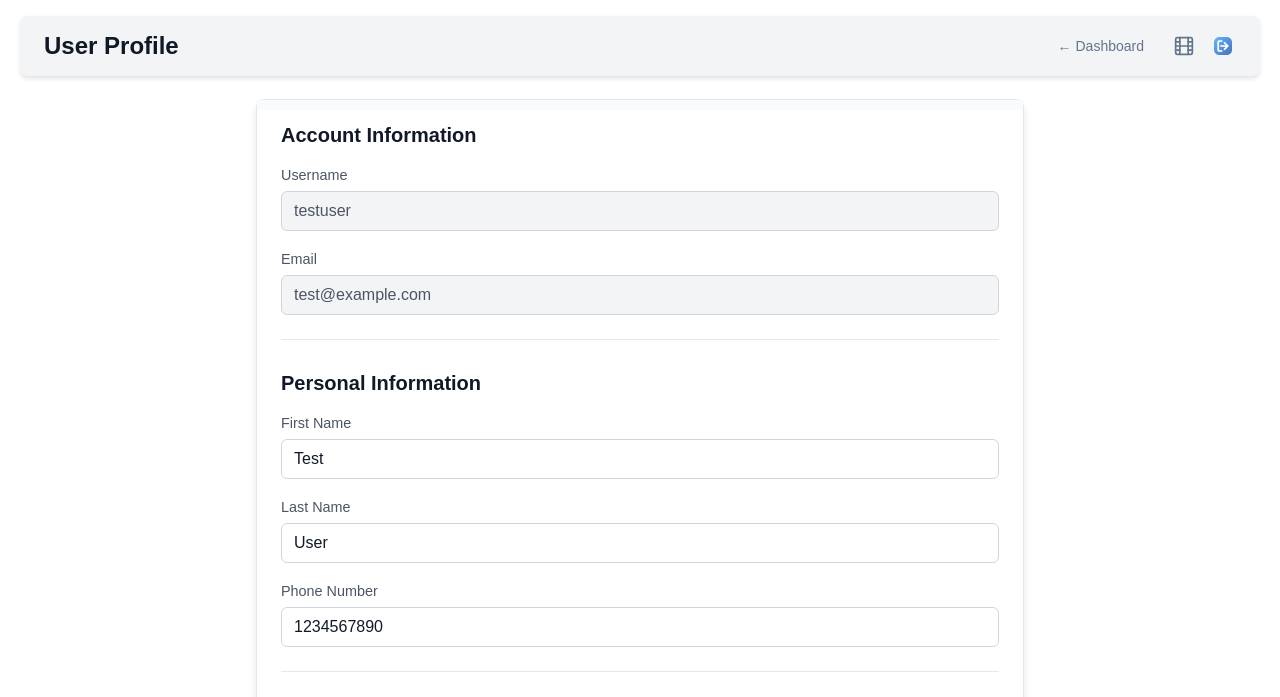
Test: Profile Component › handles profile update successfully
Update first name
Replace the text in the field with placeholder "Enter your first name" below "First Name" with "Updated": point(640, 459) 281,439 -> 999,479
(page scrolled)
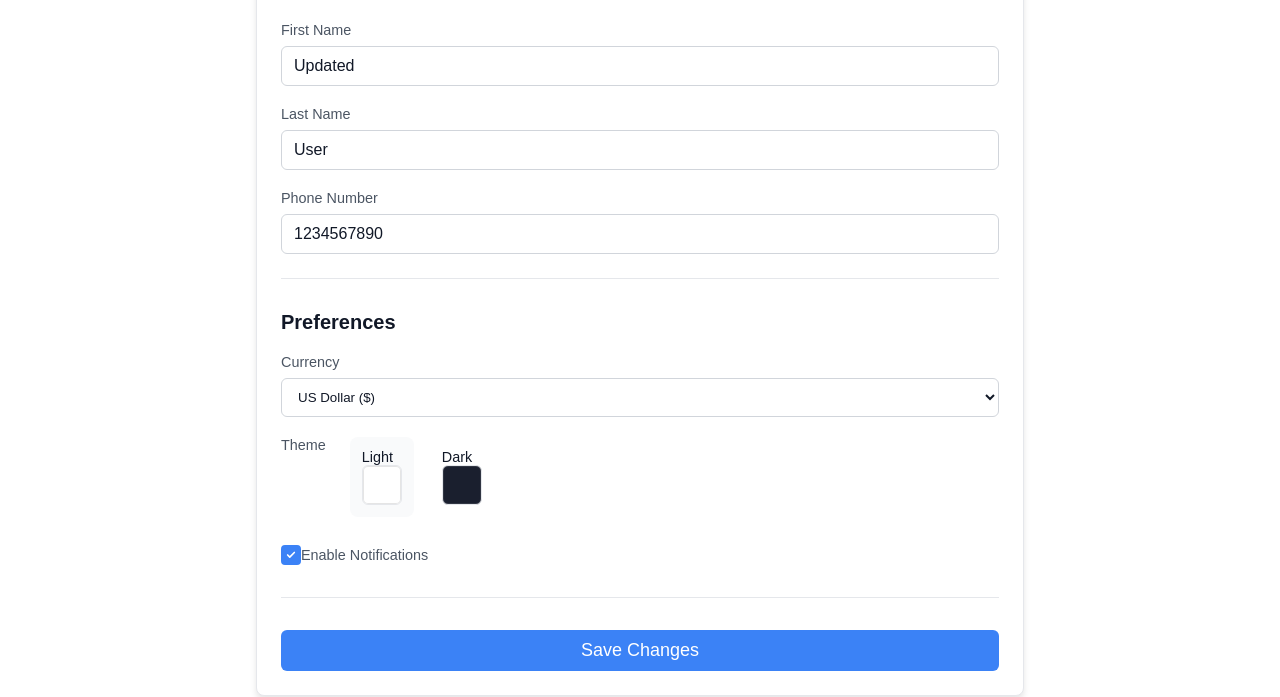
Submit form
Click the button "Save Changes": point(640, 650) 281,630 -> 999,671
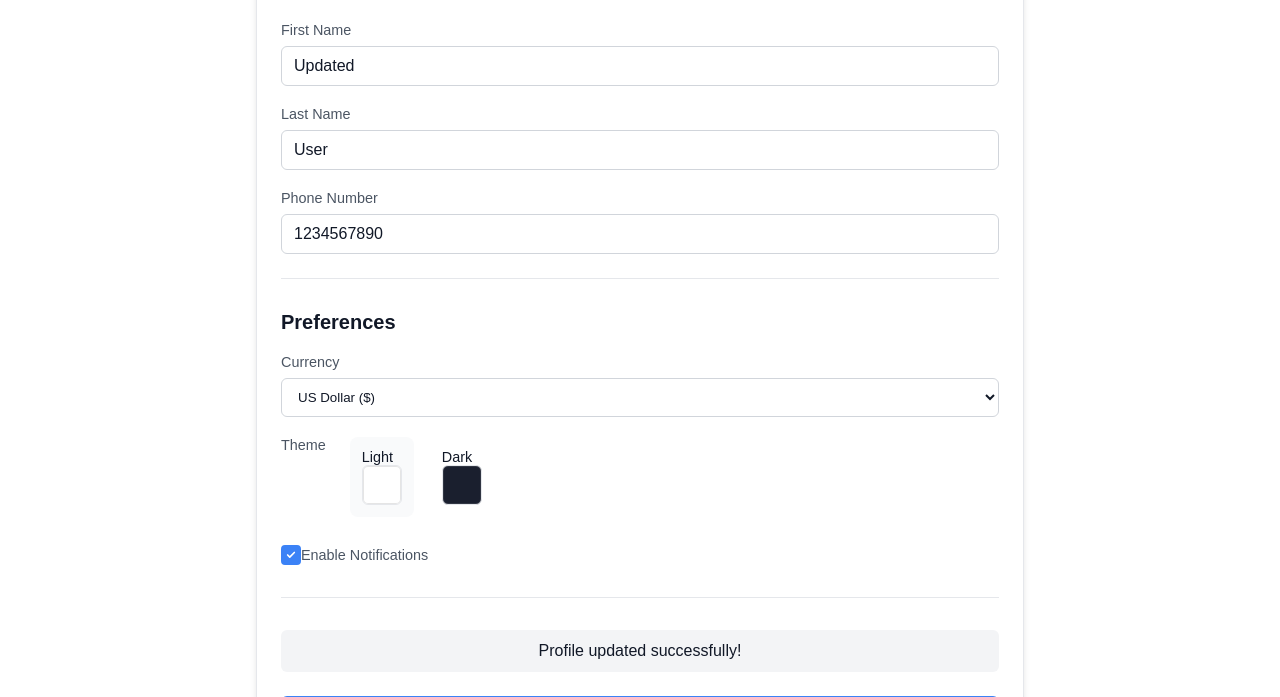
expect the text "Profile updated successfully!" is shown: met, box 281,630 -> 999,672
